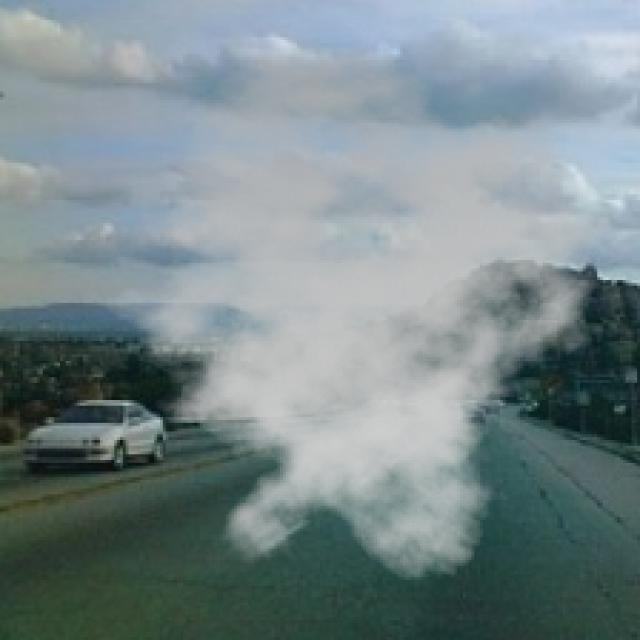Smoke: (77, 43, 626, 583)
